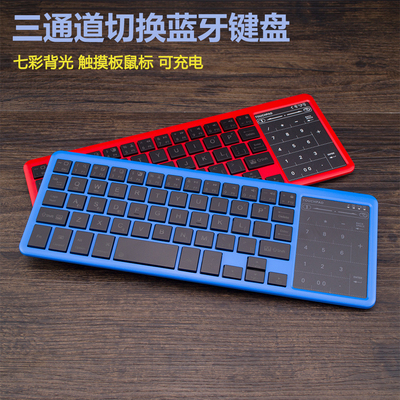keyboard: (18, 151, 378, 312), (24, 95, 356, 230)
